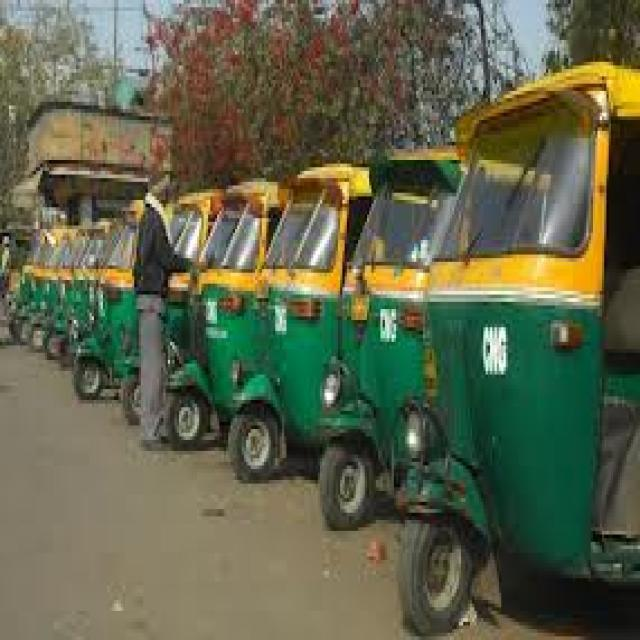auto_front: (393, 61, 640, 627), (313, 102, 467, 530), (224, 153, 360, 502)
